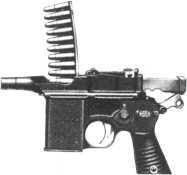rifle: (3, 3, 187, 174)
